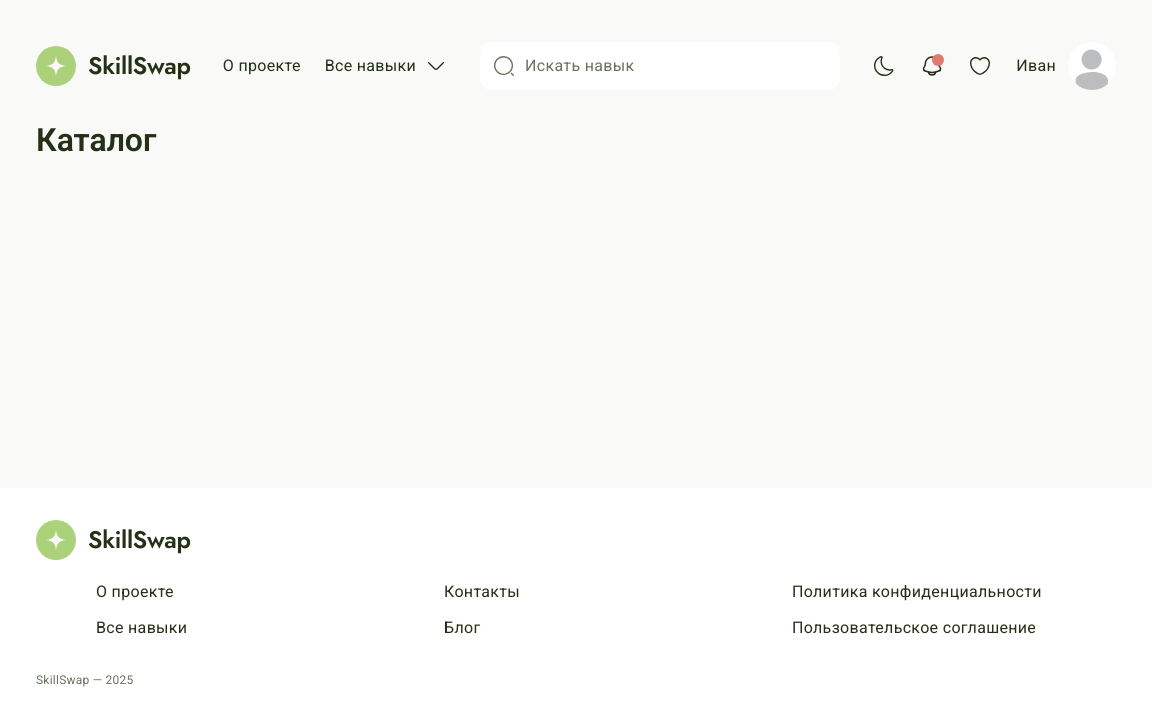
Test: MainLayout — уведомления › если навык недоступен, объясняет ошибку и не уводит на чужую страницу
Click the button named "Уведомления, есть новые": (932, 66) [920,54,944,78]
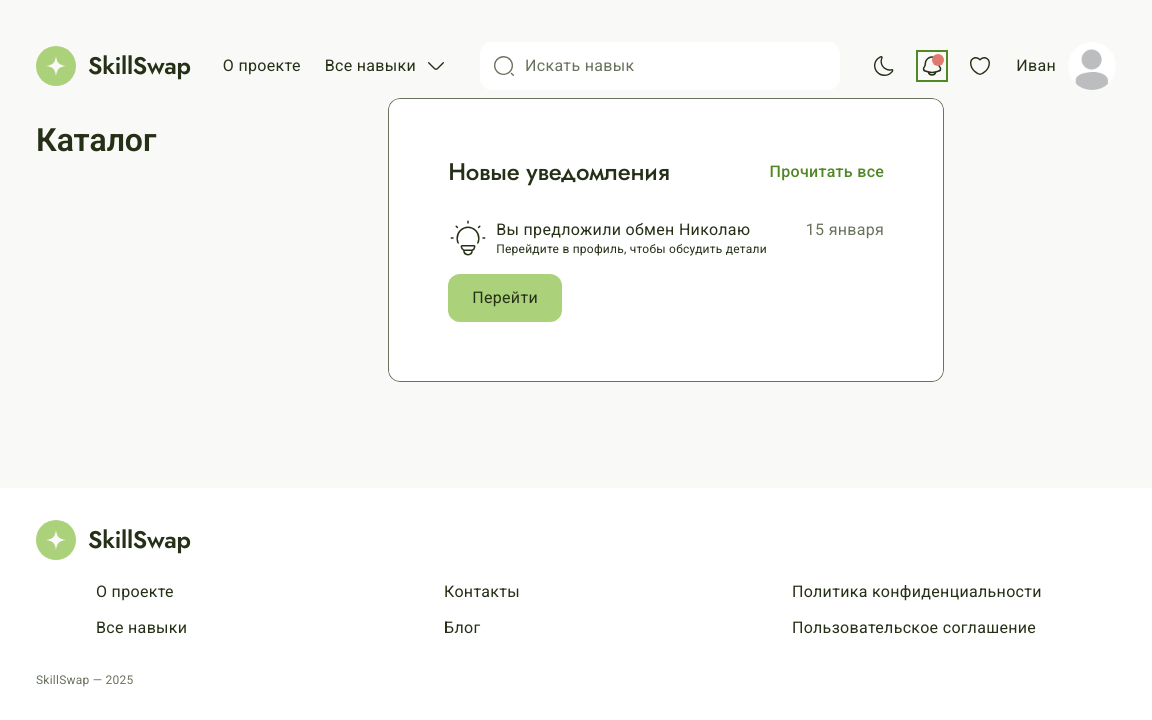
Click the button "Перейти": (505, 298) [448,274,562,322]
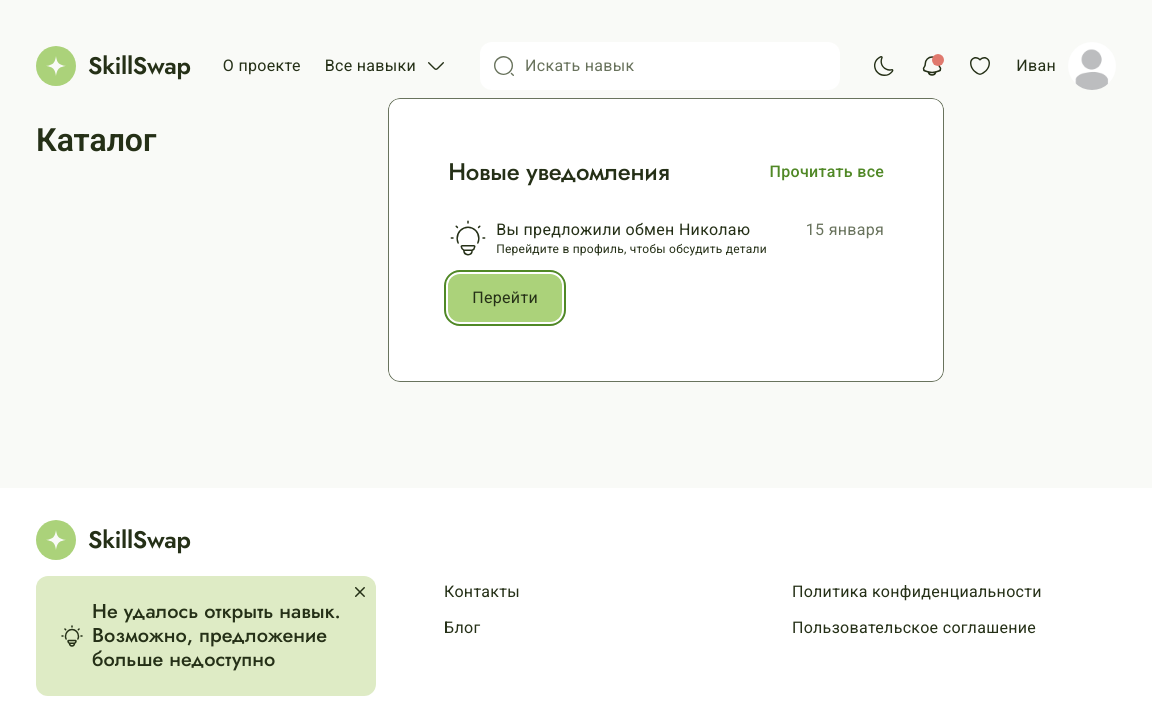
Expected: the heading "Каталог" is shown, [36,121,156,159]
Now the text "Не удалось открыть навык. Возможно, предложение больше недоступно" is shown, box [92,600,352,672]
